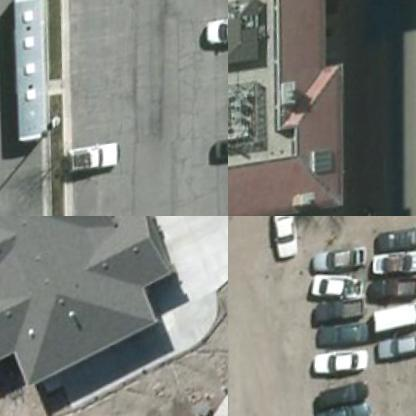car: (72, 139, 128, 179), (311, 272, 369, 308), (268, 216, 309, 266), (315, 325, 373, 360), (312, 243, 370, 278), (312, 301, 374, 333), (316, 350, 374, 384), (365, 277, 415, 313), (375, 336, 415, 375), (374, 251, 415, 287), (374, 227, 415, 263), (378, 305, 415, 341), (207, 14, 227, 54), (314, 406, 378, 415), (214, 136, 227, 177)
